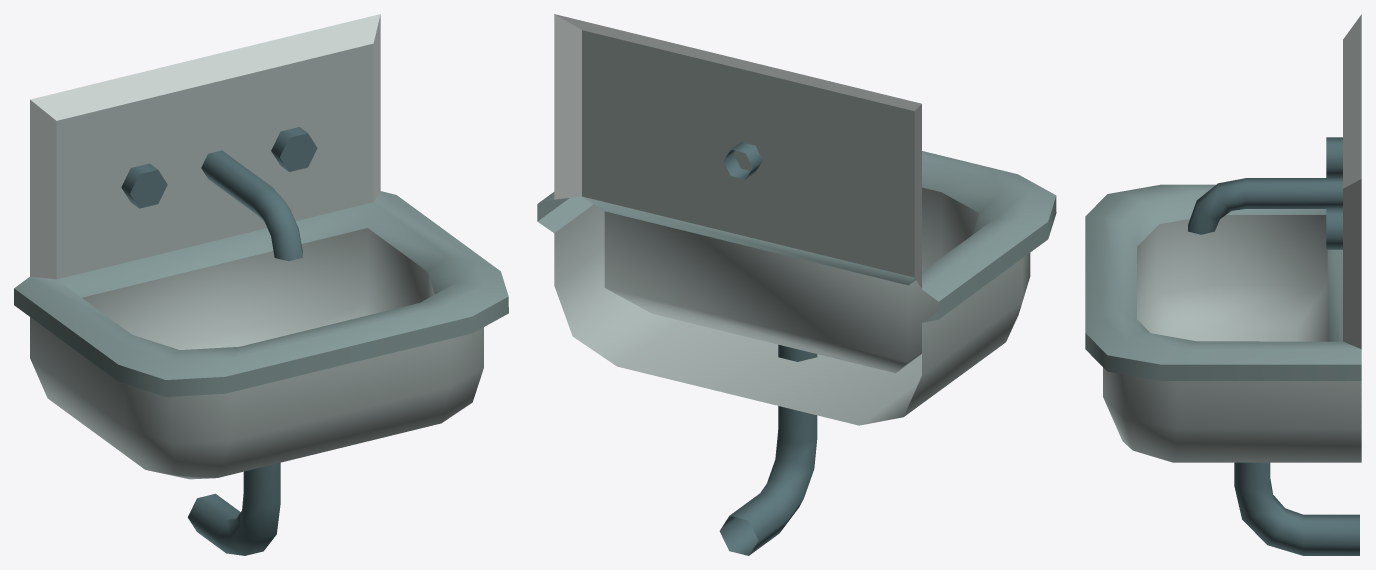
Rendered from Sink.fbx.
The picture shows the model from 3 angles, left to right: view 1: azimuth 30°, elevation 25°; view 2: azimuth 150°, elevation 25°; view 3: azimuth 270°, elevation 25°; orthographic projection. The views are drawn at different scales.
Visible parts, largest first — view 1: Sink; view 2: Sink; view 3: Sink.
Part boxes in pixels (<box>): Sink: <box>14,14,508,555</box>; Sink: <box>537,14,1056,555</box>; Sink: <box>1085,14,1361,555</box>.
Size of the model in its own units: 61.25 by 72.27 by 39.79.
